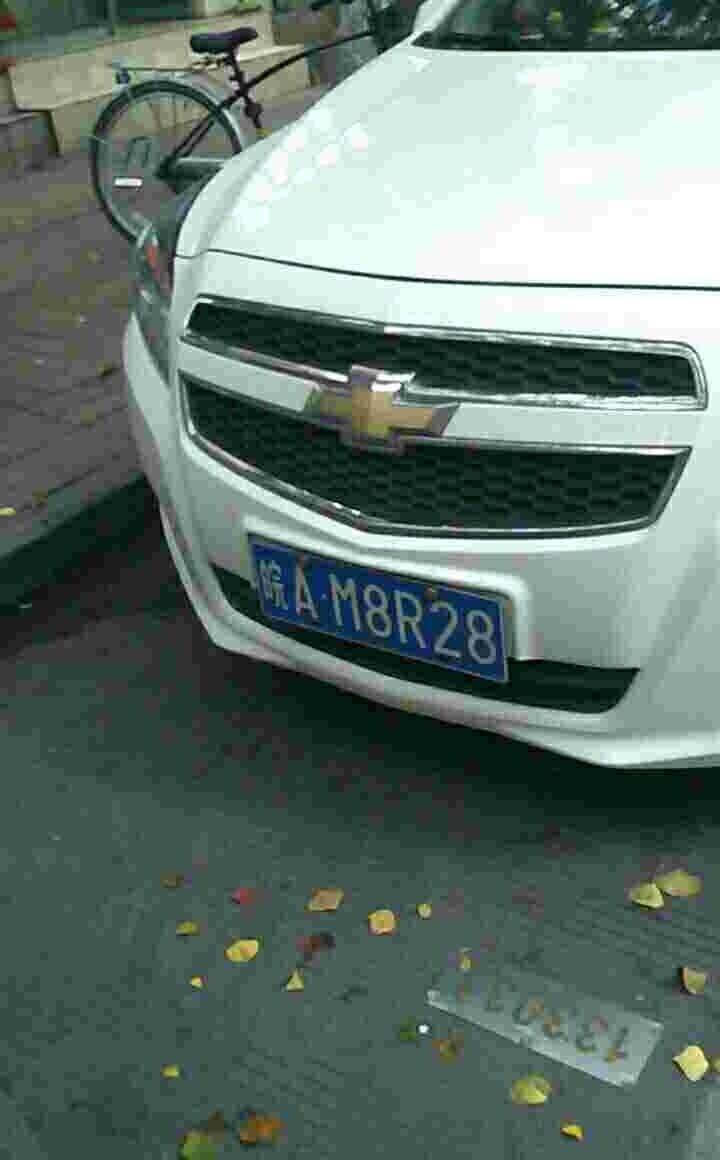license_plate: (249, 540, 509, 686)
